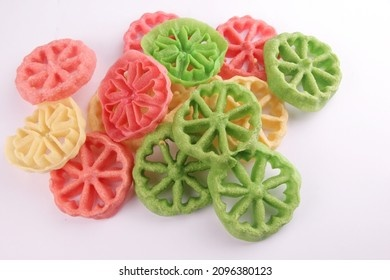kembang_goyang: (214, 143, 305, 241), (85, 54, 166, 139), (182, 81, 258, 162), (266, 36, 343, 107)
